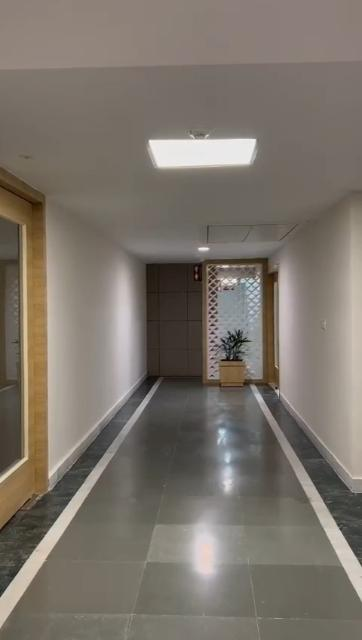door: (0, 172, 42, 503), (266, 278, 278, 386)
floor: (0, 378, 361, 640)
object: (218, 329, 250, 389)
wall: (52, 206, 146, 477), (280, 192, 362, 473)
